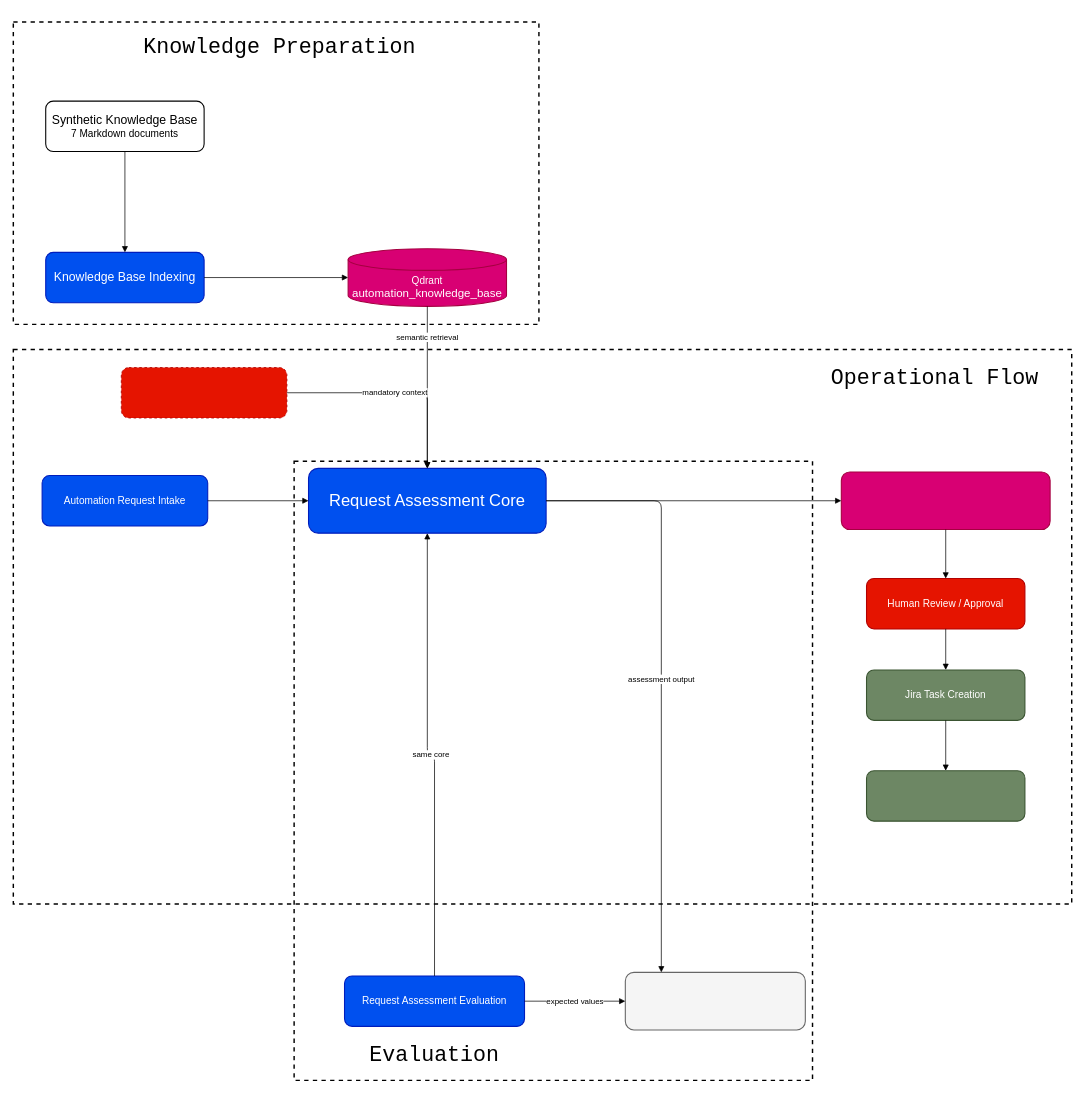
Some shapes in this 1084 by 1102 pixel diagram are drawn without their labels. Each missing label, with the box of its shape:
Audit Log: (866, 770, 1025, 821)
Compare Expected vs Actual retrieval_pass vs decision_pass: (624, 971, 806, 1030)
Mandatory AI Risk Policy loaded deterministically: (121, 367, 287, 418)
Structured Assessment r ecommendation • risk • human review • labels: (840, 471, 1050, 530)
